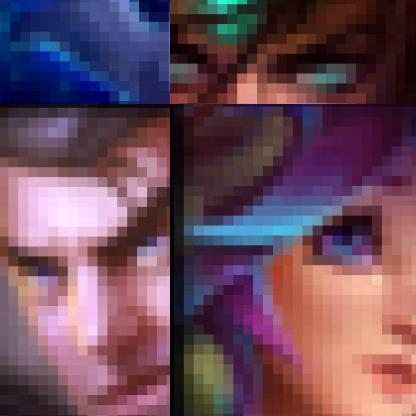Aurelion Sol: (0, 0, 169, 103)
Jayce: (0, 104, 169, 415)
Lillia: (170, 104, 415, 415)
Sivir: (170, 0, 415, 103)
